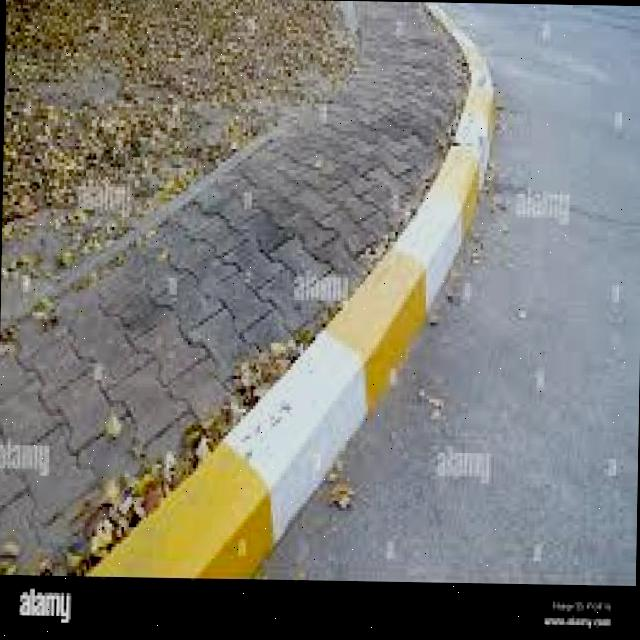curb: (102, 424, 380, 579), (271, 254, 491, 422), (387, 125, 512, 268), (413, 3, 512, 136)
